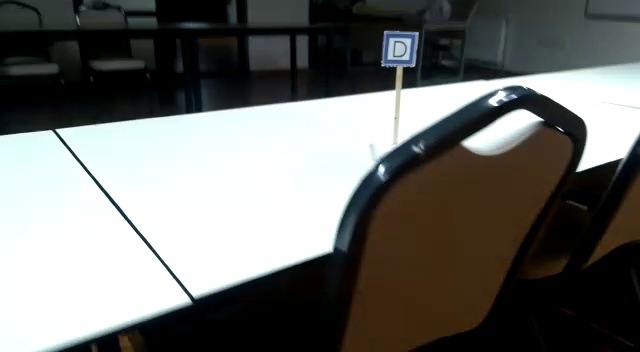durak: (383, 32, 417, 66)
